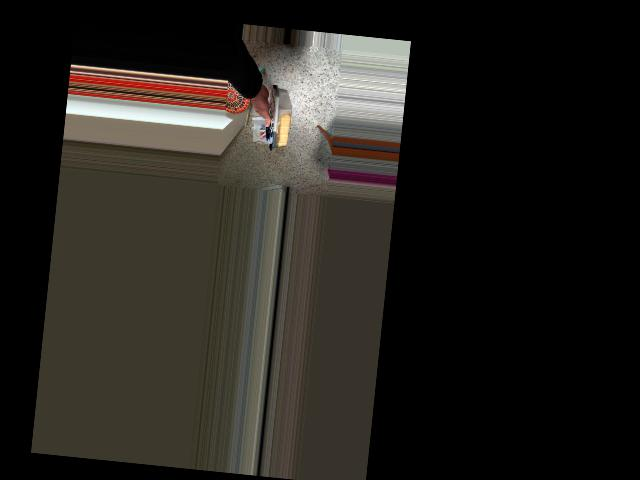cheese: (227, 77, 299, 151)
